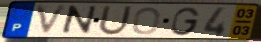4: (202, 5, 228, 38)
G: (170, 6, 202, 37)
N: (58, 5, 99, 37)
O: (131, 6, 163, 36)
U: (96, 4, 134, 37)
V: (34, 4, 70, 37)
